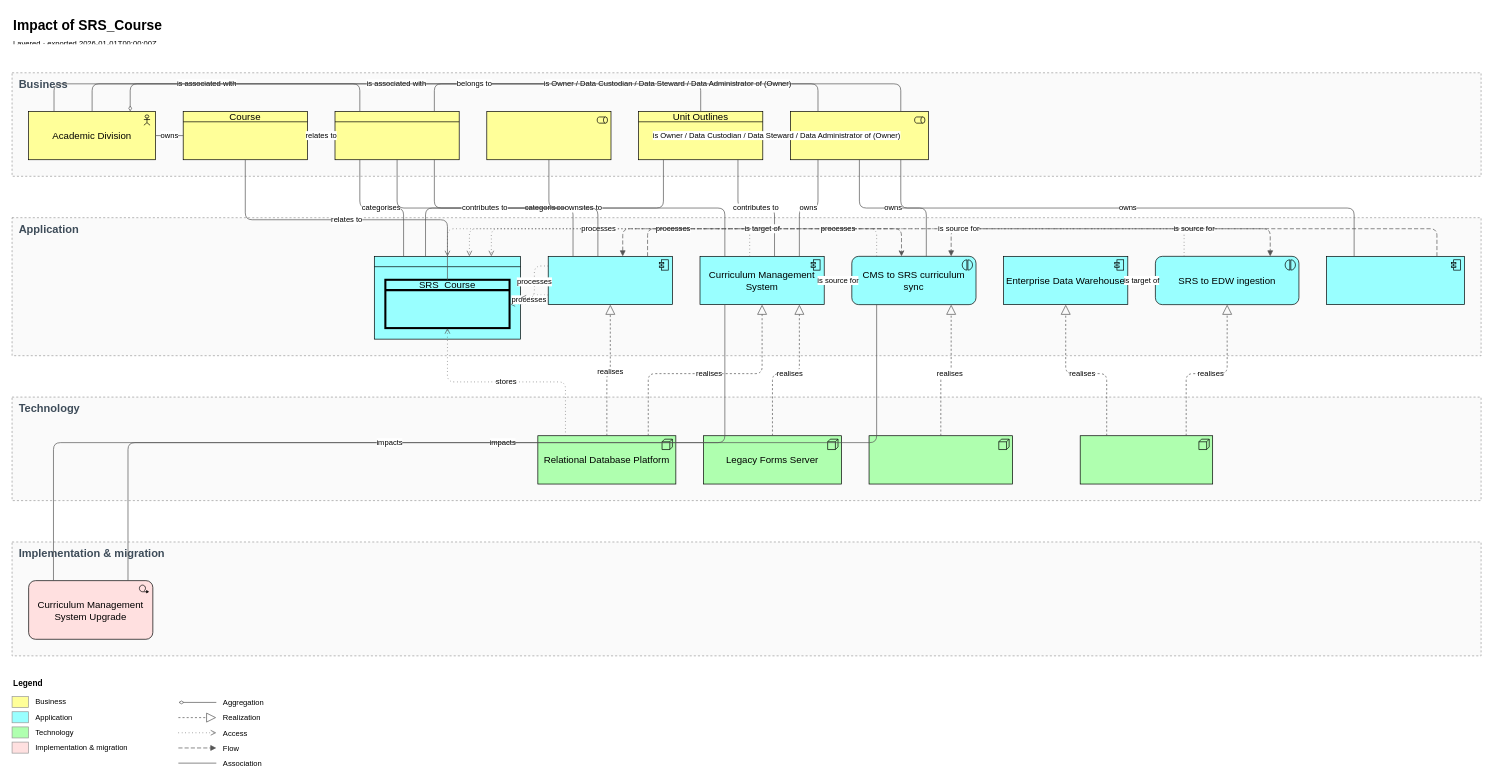
This 1493x779 diagram has some shape labels left out. The shapes that lost their labels are listed below. From the top down, each one's box as (x1, y1, x2, y2) in pixels, then its label:
(334, 111, 459, 160): Course Catalogue
(486, 111, 611, 160): Registrar
(790, 111, 928, 160): Manager, Curriculum Systems
(374, 256, 521, 339): Curriculum
(548, 256, 672, 305): Student Records System (SRS)
(1326, 256, 1465, 305): Curriculum Approval Workflow
(868, 435, 1013, 484): Integration Platform
(1080, 435, 1213, 484): Lakehouse Platform
